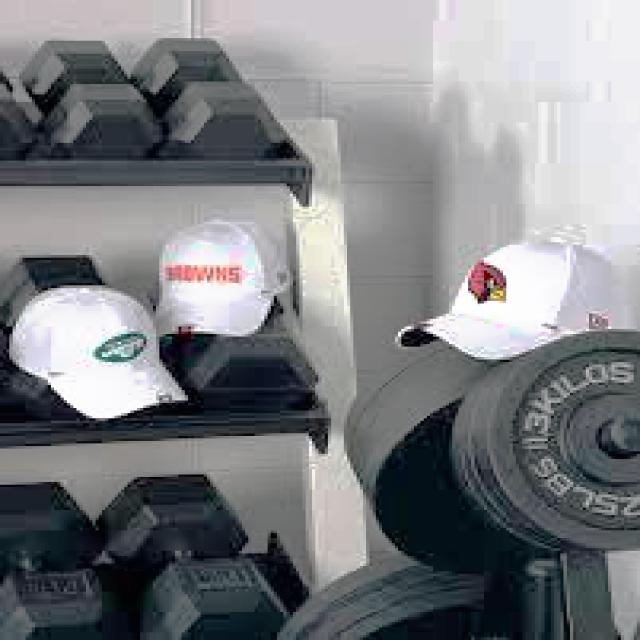TOPI: (386, 224, 630, 362), (0, 278, 188, 421), (143, 212, 287, 334)
